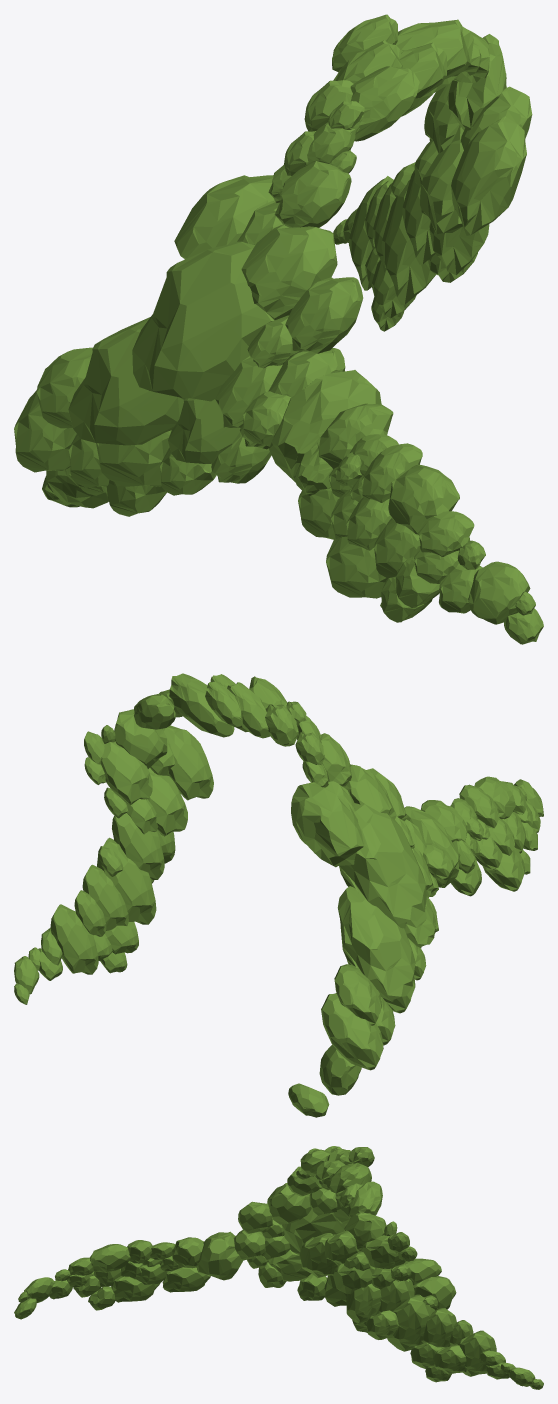
File: moss3.fbx
The picture shows the model from 3 angles, top to bottom: view 1: azimuth 30°, elevation 25°; view 2: azimuth 150°, elevation 25°; view 3: azimuth 270°, elevation 25°; orthographic projection. The views are drawn at different scales.
Parts seen in each view (by area): view 1: Group63459.075, Group63459.073, Moss_G3, Group63459.155, Group63459.087, Group63459.160, Group63459.082, Group63459.083, Group63459.135, Group63459.074, Group63459.110, Group63459.114 (+46 smaller); view 2: Group63459.075, Group63459.073, Group63459.160, Group63459.114, Group63459.155, Group63459.144, Group63459.129, Group63459.134, Group63459.123, Group63459.126, Group63459.113, Group63459.085 (+28 smaller); view 3: Group63459.087, Group63459.129, Group63459.075, Moss_G3, Group63459.155, Group63459.144, Group63459.127, Group63459.130, Group63459.085, Group63459.110, Group63459.088, Group63459.134 (+40 smaller).
Part boxes in pixels (x1,y1,x2,y2): Group63459.075: (132, 241, 274, 401); Group63459.073: (68, 317, 184, 445); Moss_G3: (241, 224, 337, 320); Group63459.155: (451, 116, 526, 235); Group63459.087: (269, 370, 381, 481); Group63459.160: (174, 175, 274, 259); Group63459.082: (285, 277, 363, 353); Group63459.083: (274, 161, 351, 227); Group63459.135: (350, 66, 419, 141); Group63459.074: (168, 398, 241, 463); Group63459.110: (388, 464, 459, 534); Group63459.114: (14, 390, 76, 472); Group63459.075: (339, 803, 426, 928); Group63459.073: (337, 886, 415, 1001); Group63459.160: (291, 782, 365, 867); Group63459.114: (321, 993, 383, 1070); Group63459.155: (162, 725, 213, 800); Group63459.144: (50, 904, 98, 974); Group63459.129: (97, 837, 156, 924); Group63459.134: (101, 741, 152, 805); Group63459.123: (169, 673, 234, 737); Group63459.126: (112, 813, 164, 879); Group63459.113: (334, 964, 381, 1025); Group63459.085: (114, 709, 167, 768); Group63459.087: (197, 1231, 243, 1280); Group63459.129: (387, 1294, 434, 1351); Group63459.075: (281, 1209, 347, 1255); Moss_G3: (267, 1183, 311, 1224); Group63459.155: (299, 1233, 337, 1277); Group63459.144: (458, 1330, 496, 1376); Group63459.127: (346, 1283, 381, 1323); Group63459.130: (421, 1308, 456, 1347); Group63459.085: (344, 1213, 386, 1251); Group63459.110: (90, 1244, 130, 1272); Group63459.088: (162, 1267, 210, 1292); Group63459.134: (361, 1235, 405, 1268).
Size of the model in its own units: 3592 by 3781 by 6413.
